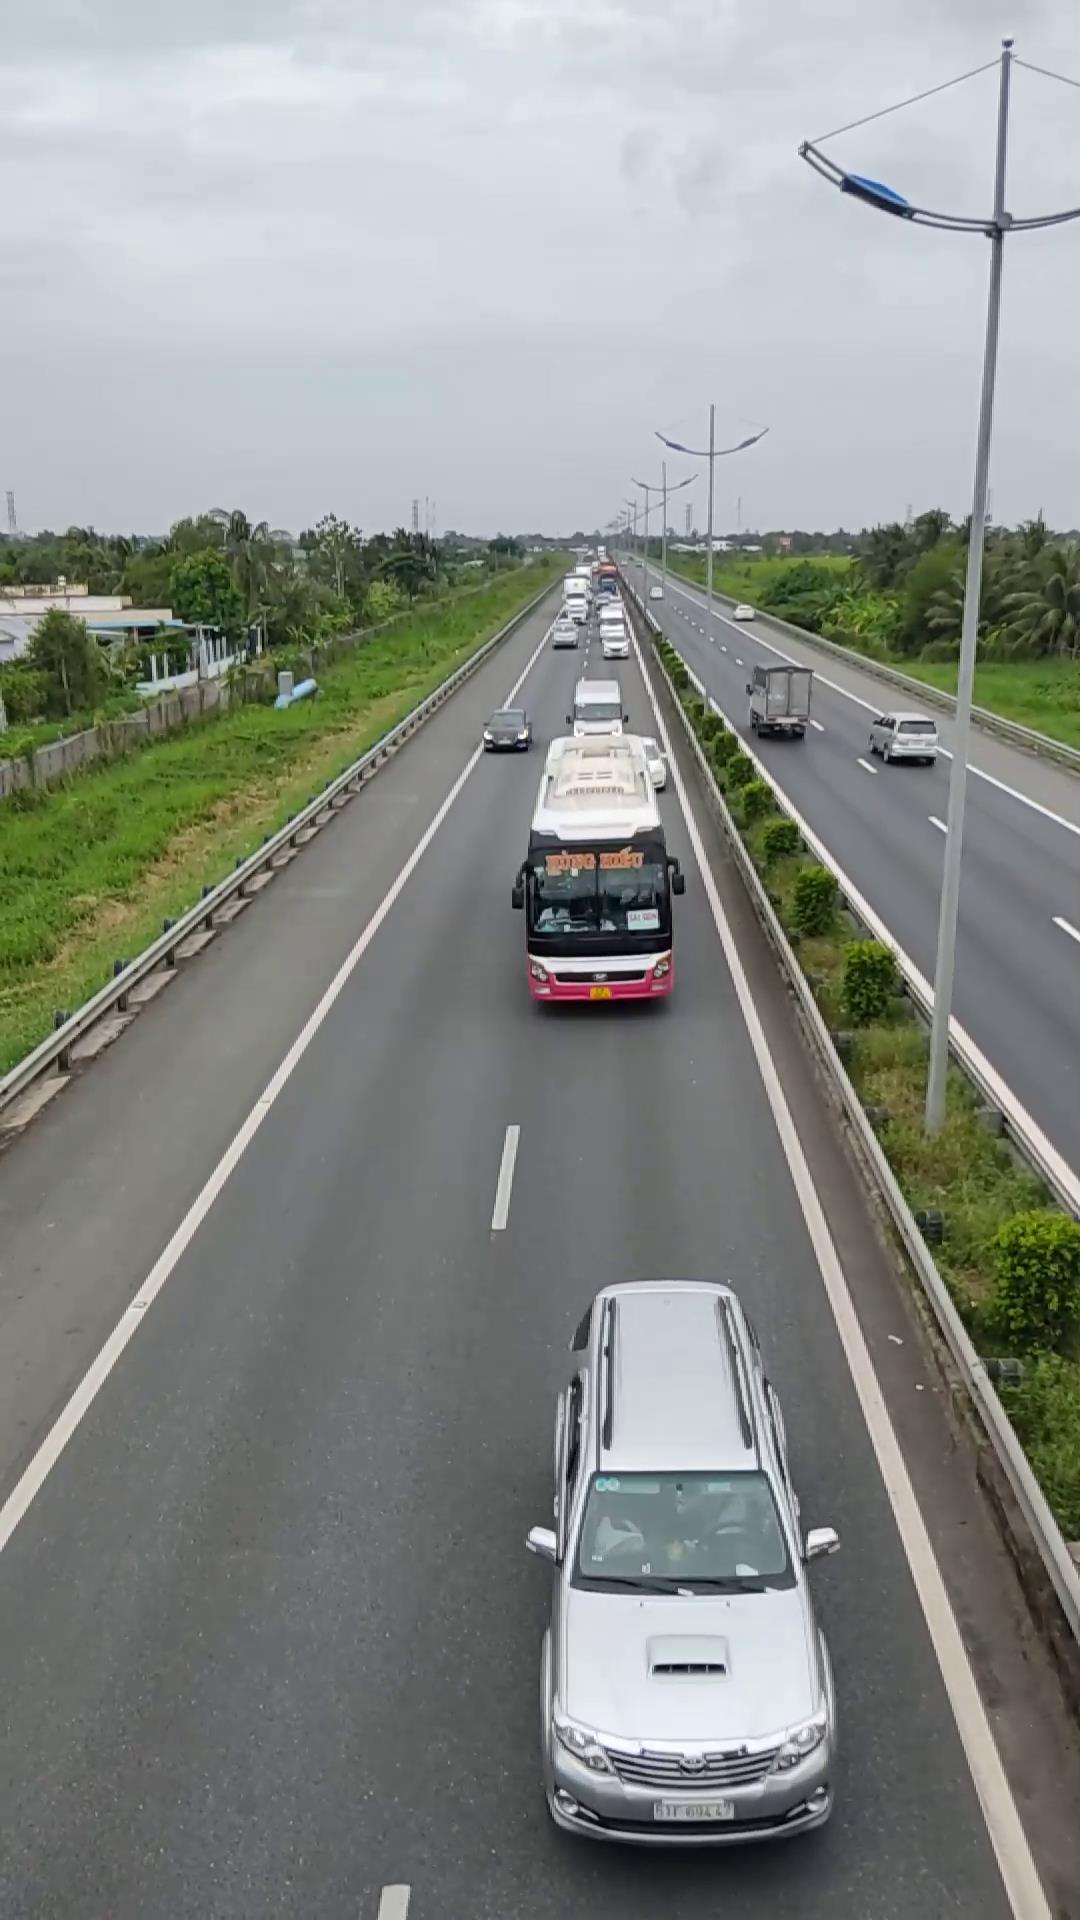bus: (511, 741, 682, 1008)
car: (527, 1283, 840, 1842)
truck: (745, 658, 814, 737)
